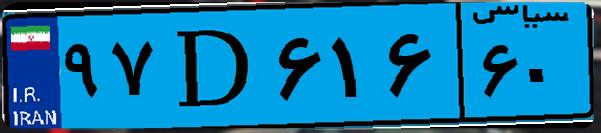0: (525, 38, 570, 115)
1: (330, 28, 385, 110)
6: (270, 28, 330, 110), (385, 28, 445, 110), (475, 38, 525, 113)
7: (110, 28, 158, 98)
9: (57, 26, 110, 100)
D: (158, 12, 270, 120)
